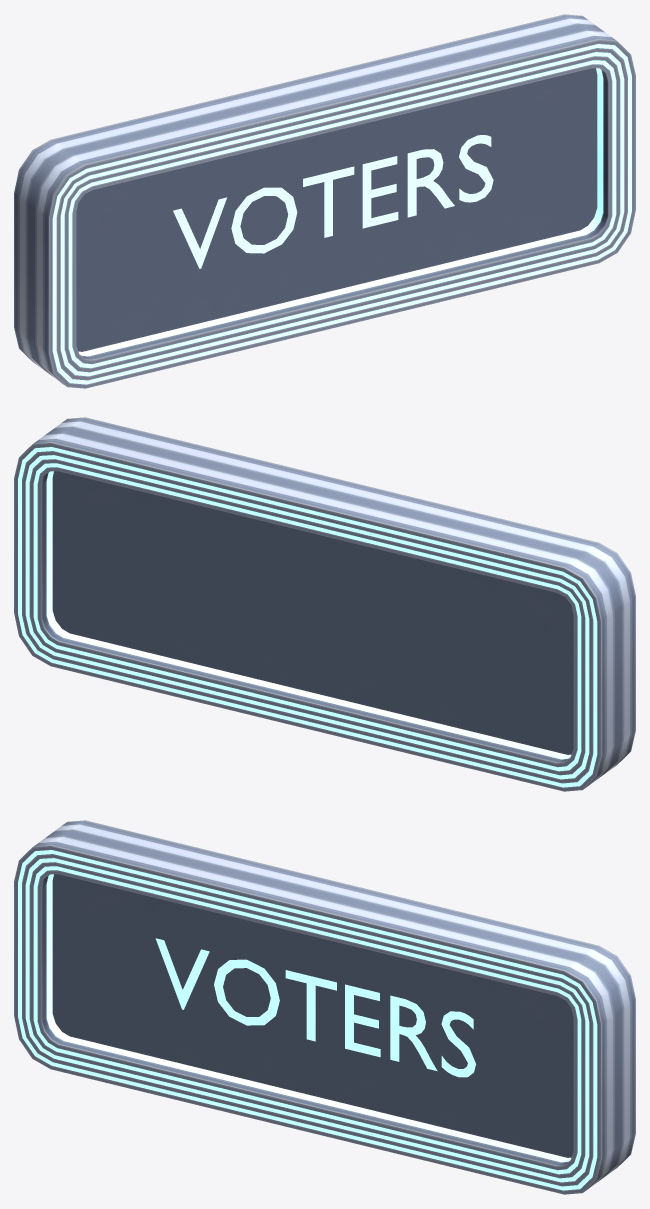
Rendered from obj_voters.gltf.
The picture shows the model from 3 angles, top to bottom: view 1: azimuth 30°, elevation 25°; view 2: azimuth 150°, elevation 25°; view 3: azimuth 330°, elevation 25°; orthographic projection.
Visible parts, largest first — view 1: obj_voters; view 2: obj_voters; view 3: obj_voters.
Boxes of the visible parts, bbox=[...] form: obj_voters: bbox=[14, 14, 635, 388]; obj_voters: bbox=[14, 417, 635, 791]; obj_voters: bbox=[14, 820, 635, 1194].
Size of what is drawn, in the model's own units: 4.27 by 1.55 by 0.439.
Materials: 2 (1 with a texture image).
